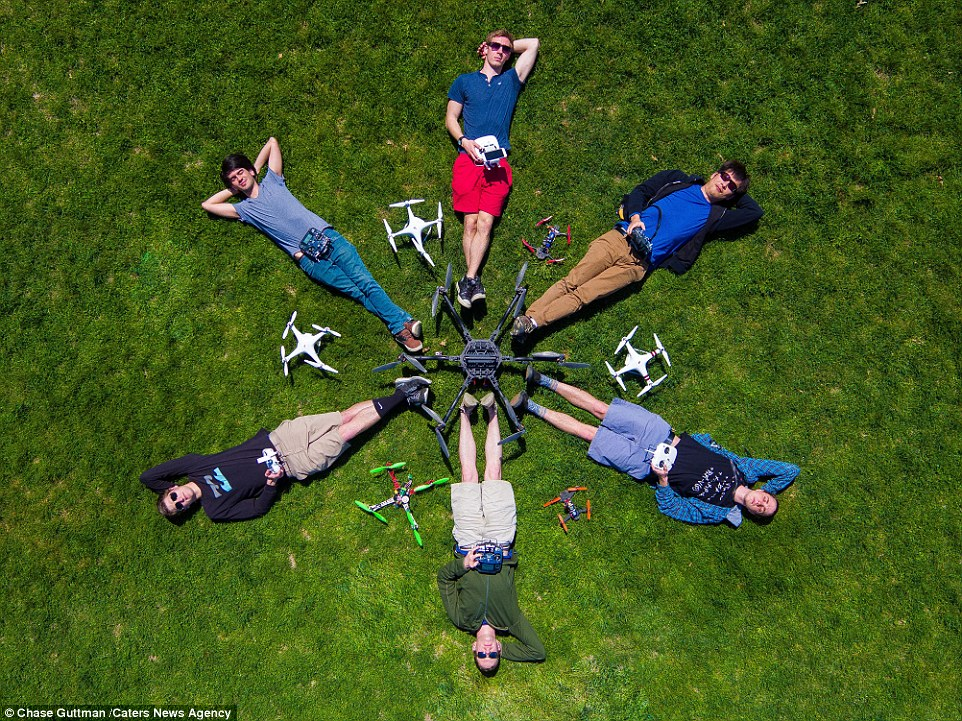drone: (376, 266, 587, 449), (357, 462, 448, 555), (379, 194, 457, 277), (274, 310, 351, 382), (606, 325, 675, 402), (520, 212, 578, 273), (543, 485, 597, 546)
person: (509, 364, 805, 533), (202, 137, 426, 353), (506, 160, 763, 348), (138, 378, 437, 529), (435, 393, 550, 677), (444, 31, 547, 315)
